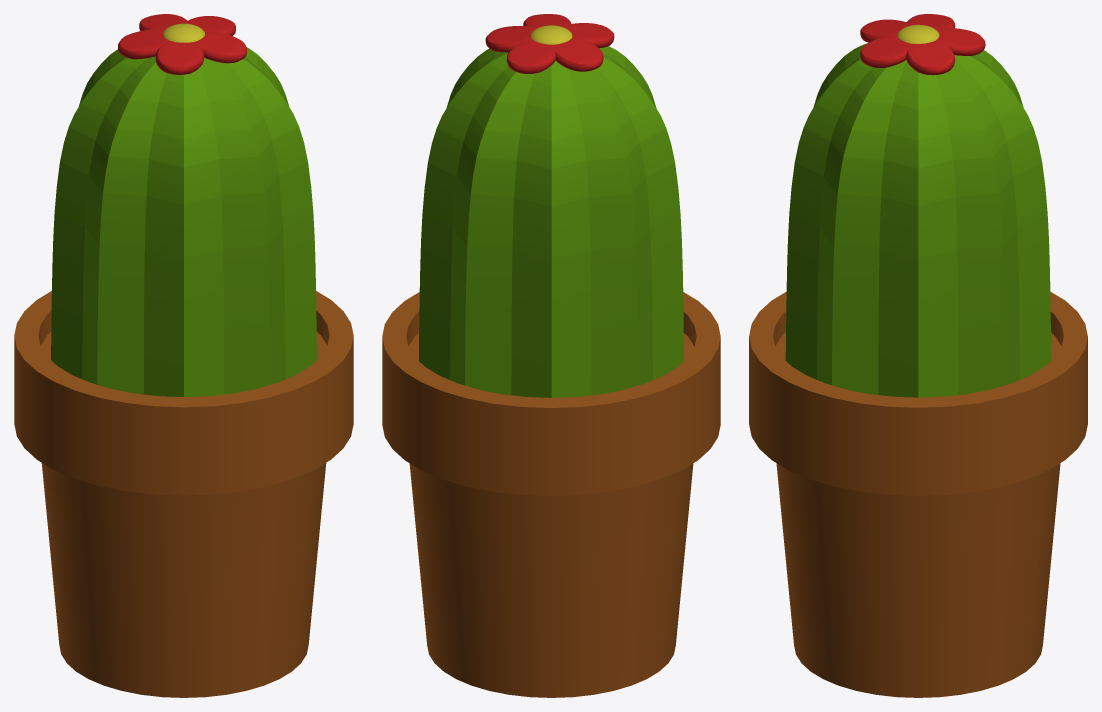
Rendered from cactus.glb.
The picture shows the model from 3 angles, left to right: view 1: azimuth 30°, elevation 25°; view 2: azimuth 150°, elevation 25°; view 3: azimuth 270°, elevation 25°; orthographic projection.
Parts seen in each view (by area): view 1: Cylinder002; view 2: Cylinder002; view 3: Cylinder002.
Part boxes in pixels (<box>): Cylinder002: <box>14,14,353,697</box>; Cylinder002: <box>382,14,720,697</box>; Cylinder002: <box>749,14,1087,697</box>.
Size of the model in its own units: 0.1135 by 0.228 by 0.1135.
1 material, 1 textured.
